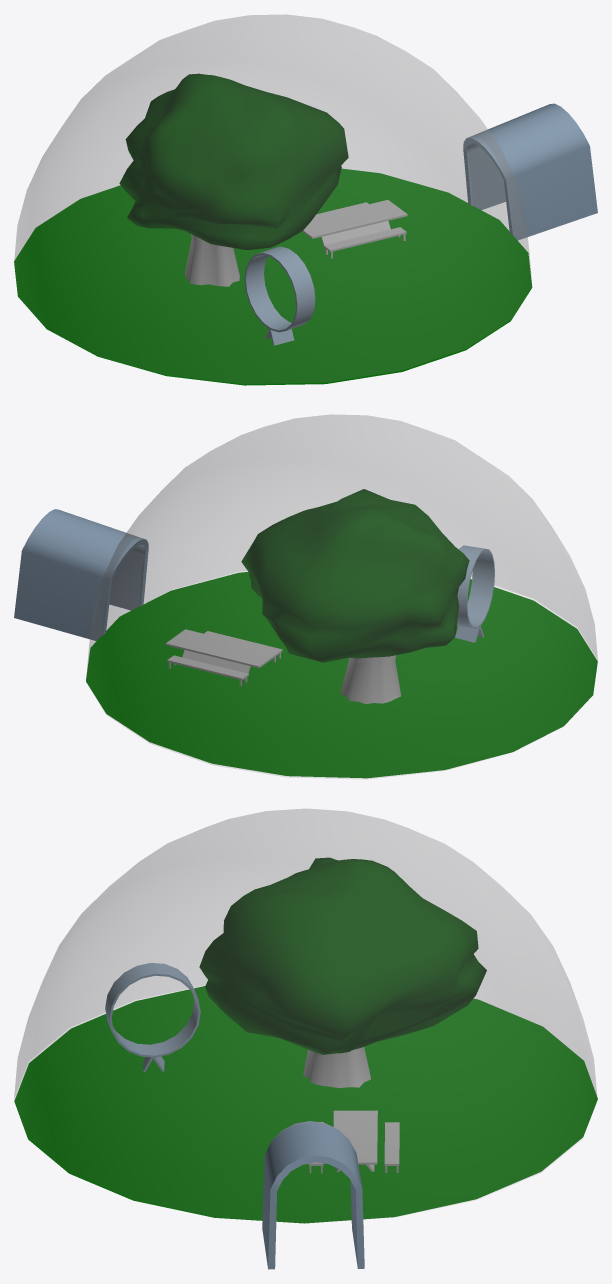
Rendered from sb_sandy.fbx.
3 renders of one model, top to bottom at view 1: azimuth 30°, elevation 25°; view 2: azimuth 150°, elevation 25°; view 3: azimuth 270°, elevation 25°, orthographic. The views are drawn at different scales.
Visible parts, largest first — view 1: catherine_bikinibottomCombined1:pSphere19; view 2: catherine_bikinibottomCombined1:pSphere19; view 3: catherine_bikinibottomCombined1:pSphere19.
Part boxes in pixels (box(x1,y1,x2,y2)): catherine_bikinibottomCombined1:pSphere19: box(14, 14, 597, 385); catherine_bikinibottomCombined1:pSphere19: box(14, 414, 597, 778); catherine_bikinibottomCombined1:pSphere19: box(14, 808, 597, 1269).
Size of the model in its own units: 134 by 58.28 by 113.
